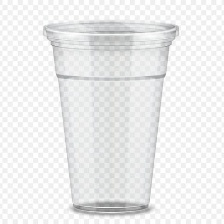glass: (33, 12, 188, 219)
